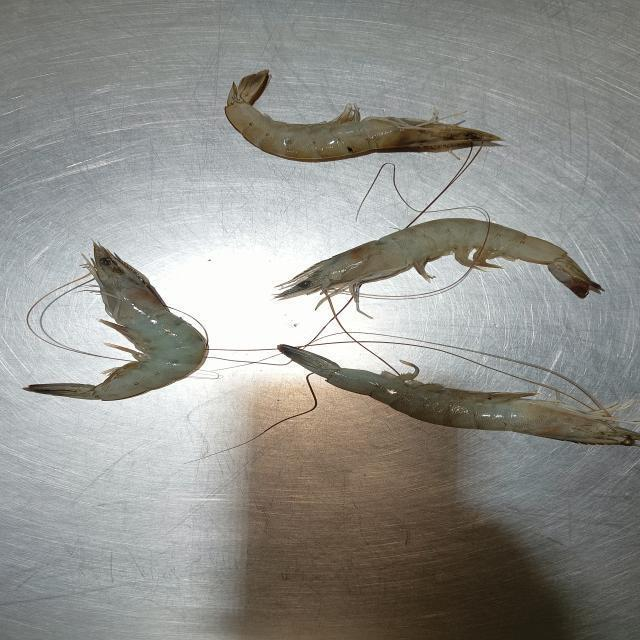shrimp: (279, 344, 638, 445), (26, 243, 206, 399), (276, 218, 602, 300), (226, 71, 502, 160)
